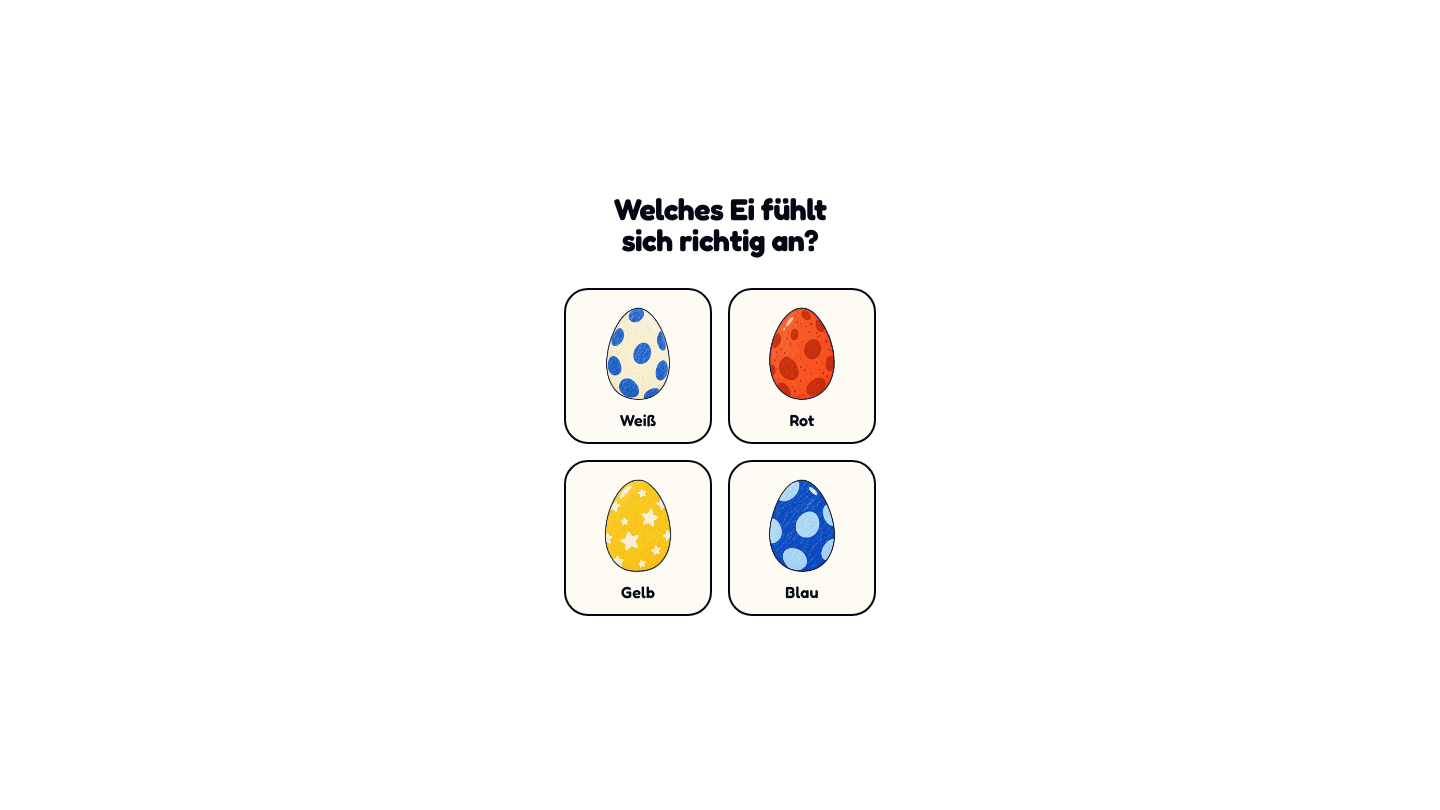
MeetRonki name chips › keeps the way on in a sticky bar below the chips
Click the button with aria-label "Ei wählen: Blau".
click(802, 538)  # box [728,460,876,616]
Wait 7300 ms
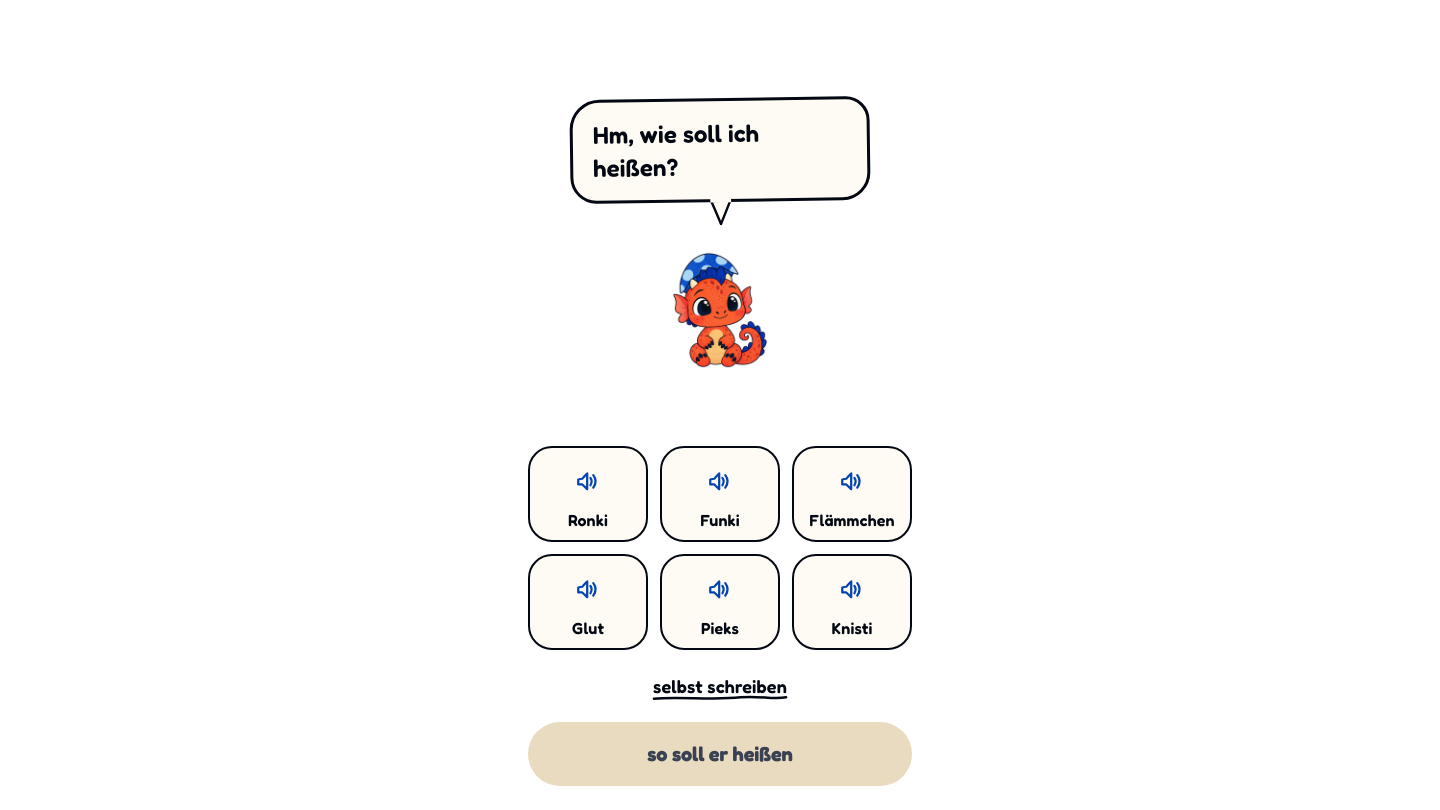
Check: the text "so soll er heißen" is shown, box [528,710,912,786]
